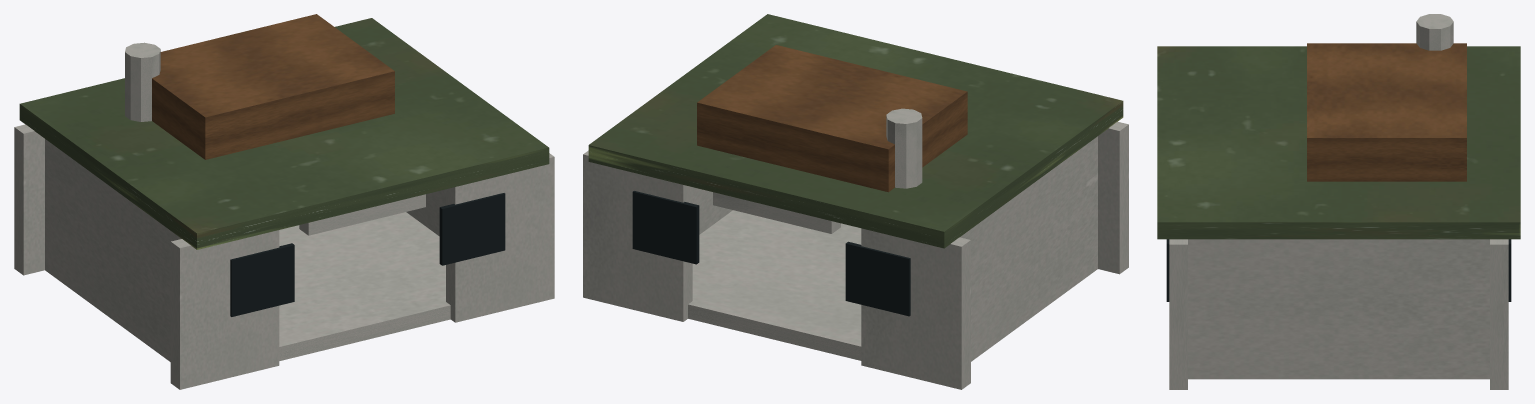
The model's file is house_small.fbx.
The picture shows the model from 3 angles, left to right: view 1: azimuth 30°, elevation 25°; view 2: azimuth 150°, elevation 25°; view 3: azimuth 270°, elevation 25°; orthographic projection. The views are drawn at different scales.
Parts seen in each view (by area): view 1: roof.001, attic.001, floor_0.001, wall_right.002, wall_front_r.002, wall_front_l.002, wall_back_r.002, win_l0_0.001, win_l0_1.001, chimney.001, wall_front_top.002, wall_left.002; view 2: roof.001, attic.001, floor_0.001, wall_right.002, wall_back_r.002, wall_back_l.002, wall_front_r.002, win_r0_0.001, win_r0_1.001, chimney.001, wall_back_top.002, wall_left.002; view 3: roof.001, wall_left.002, attic.001, wall_back_l.002, wall_front_l.002, chimney.001.
Part boxes in pixels (x1,y1,x2,y2): roof.001: (19, 18, 549, 249); attic.001: (152, 14, 394, 159); floor_0.001: (279, 212, 450, 360); wall_right.002: (45, 139, 181, 361); wall_front_r.002: (170, 230, 279, 389); wall_front_l.002: (446, 153, 554, 322); wall_back_r.002: (14, 124, 44, 275); win_l0_0.001: (439, 193, 505, 265); win_l0_1.001: (230, 243, 294, 316); chimney.001: (125, 42, 160, 121); wall_front_top.002: (299, 194, 425, 235); wall_left.002: (406, 189, 445, 236); roof.001: (588, 14, 1123, 248); attic.001: (697, 45, 967, 192); floor_0.001: (688, 210, 861, 360); wall_right.002: (960, 136, 1097, 361); wall_back_r.002: (861, 228, 970, 389); wall_back_l.002: (583, 150, 692, 321); wall_front_r.002: (1098, 121, 1128, 274); win_r0_0.001: (632, 191, 699, 264); win_r0_1.001: (845, 241, 910, 316); chimney.001: (886, 108, 922, 188); wall_back_top.002: (713, 192, 840, 233); wall_left.002: (692, 187, 732, 234); roof.001: (1157, 46, 1520, 239); wall_left.002: (1188, 239, 1489, 379); attic.001: (1307, 43, 1466, 181); wall_back_l.002: (1490, 239, 1508, 389); wall_front_l.002: (1169, 239, 1187, 389); chimney.001: (1416, 14, 1453, 50).
Bounding box in the file's own units: 830 × 470 × 680.
